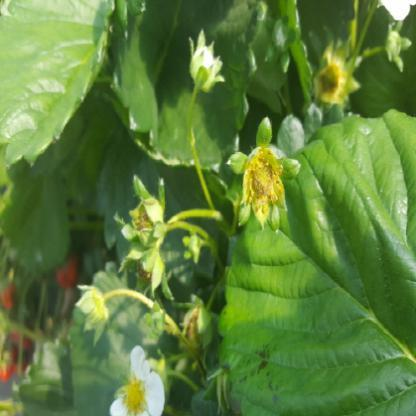Strawberry_Blossom_Blight: (241, 146, 285, 221)
